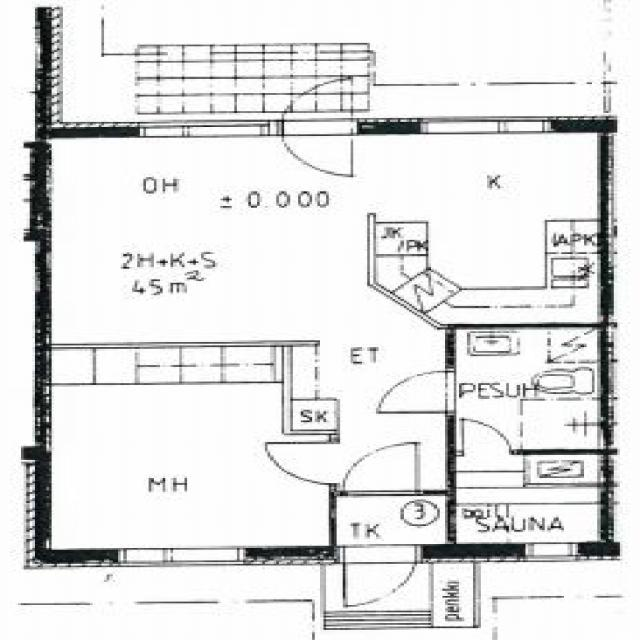door: (344, 546, 417, 611), (282, 73, 352, 135), (282, 119, 352, 180), (345, 443, 417, 496), (380, 370, 456, 412), (268, 443, 340, 484), (464, 417, 512, 454)
